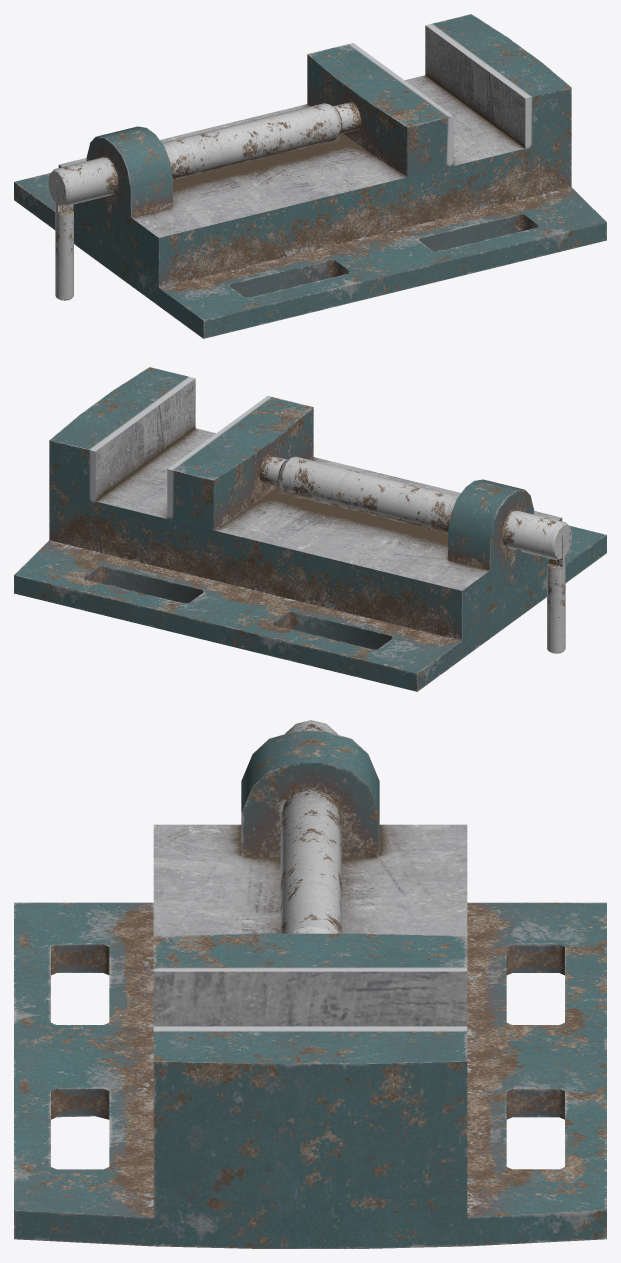
Rendered from Vise02.FBX.
The picture shows the model from 3 angles, top to bottom: view 1: azimuth 30°, elevation 25°; view 2: azimuth 150°, elevation 25°; view 3: azimuth 270°, elevation 25°; orthographic projection. The views are drawn at different scales.
Visible parts, largest first — view 1: Vise02; view 2: Vise02; view 3: Vise02.
Part boxes in pixels (box(x1,y1,x2,y2)): Vise02: box(14, 14, 606, 338); Vise02: box(14, 367, 606, 691); Vise02: box(14, 720, 606, 1248).
Size of the model in its own units: 19.64 by 5.82 by 13.77.
